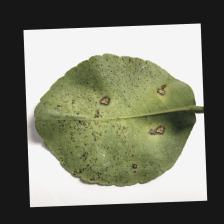canker: (42, 88, 126, 172)
